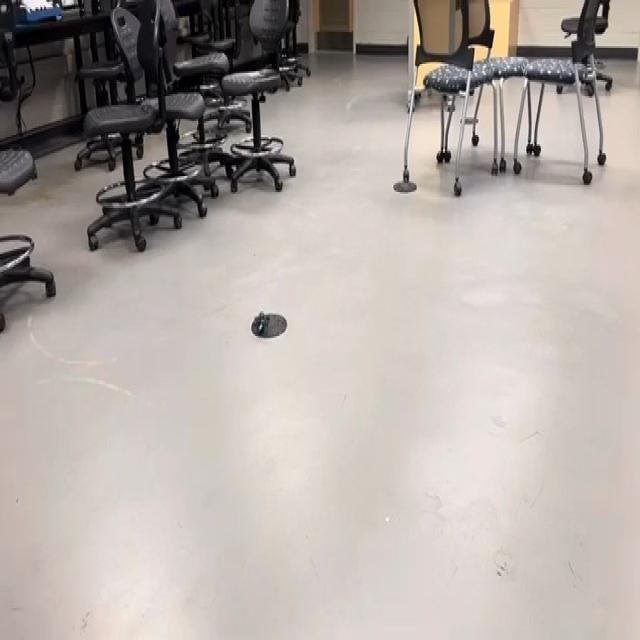drone: (245, 296, 276, 343)
